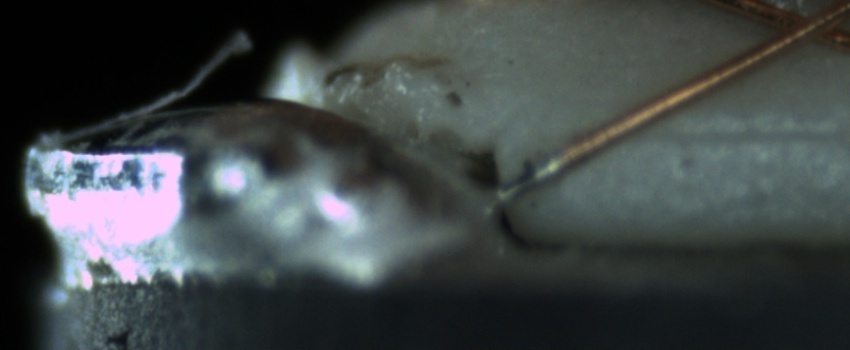CL: (748, 0, 848, 58)
DL: (619, 99, 838, 166)
TS: (492, 149, 566, 205)
TTCW: (491, 138, 581, 207)
